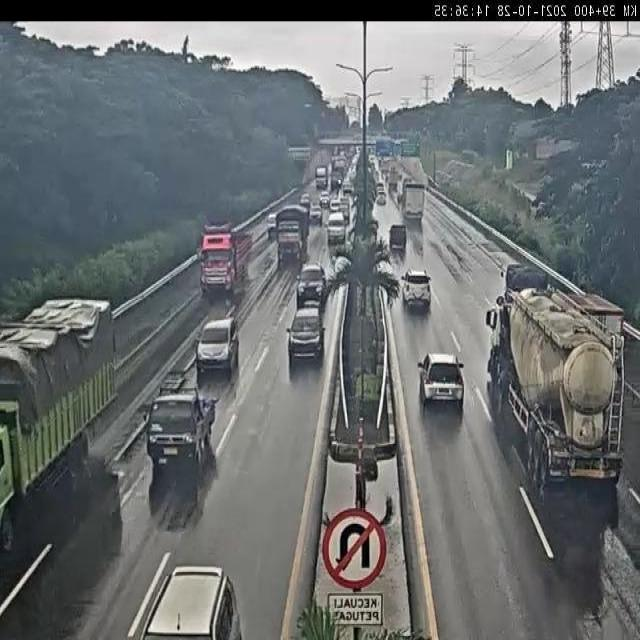Car: (128, 563, 244, 640), (417, 352, 465, 414), (195, 316, 239, 379), (285, 306, 326, 366), (296, 262, 328, 308), (401, 268, 433, 312), (388, 224, 407, 254), (310, 202, 322, 225), (339, 196, 350, 219), (267, 212, 277, 235), (342, 180, 353, 200), (319, 191, 330, 208), (329, 198, 341, 213), (300, 193, 310, 210), (376, 191, 386, 206), (376, 180, 384, 192)
Truck: (484, 269, 625, 516), (0, 298, 118, 556), (142, 382, 218, 472), (198, 217, 252, 293), (566, 292, 625, 336), (272, 205, 310, 267), (401, 180, 426, 224), (315, 165, 328, 189), (388, 170, 399, 190)
Van: (325, 210, 348, 245)
